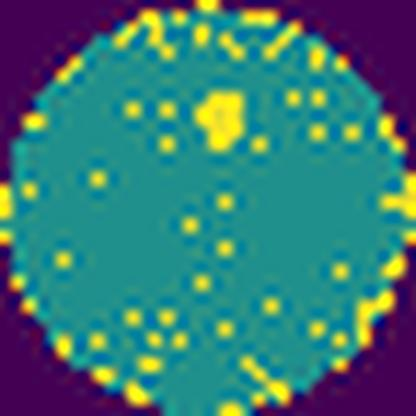Edge-Loc: (194, 89, 245, 152)
